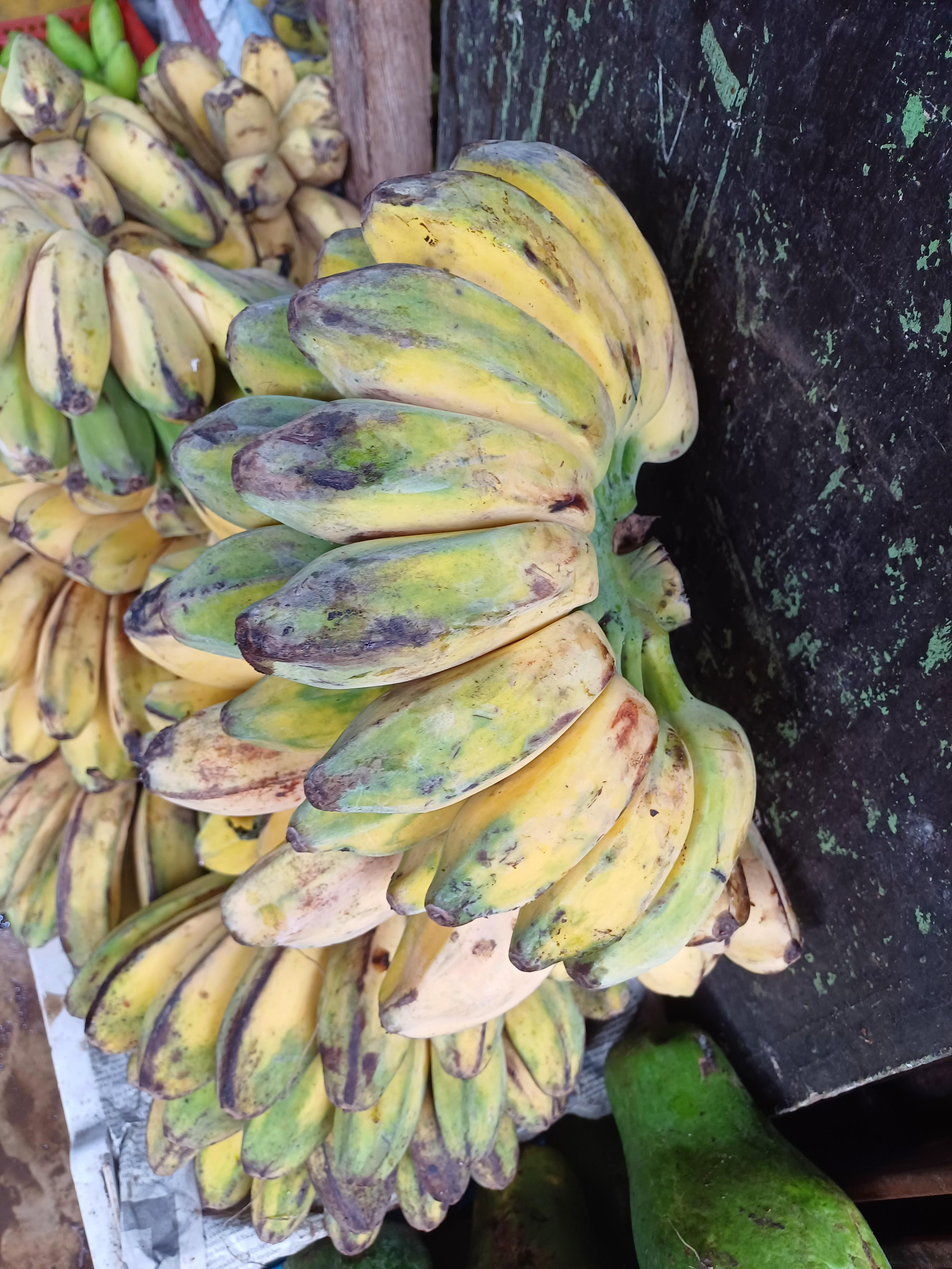ripe: (125, 580, 403, 948), (140, 35, 359, 285), (0, 536, 183, 792), (0, 752, 203, 969), (9, 483, 242, 595)
underripe: (161, 142, 755, 989), (67, 873, 584, 1255), (0, 176, 295, 497)
